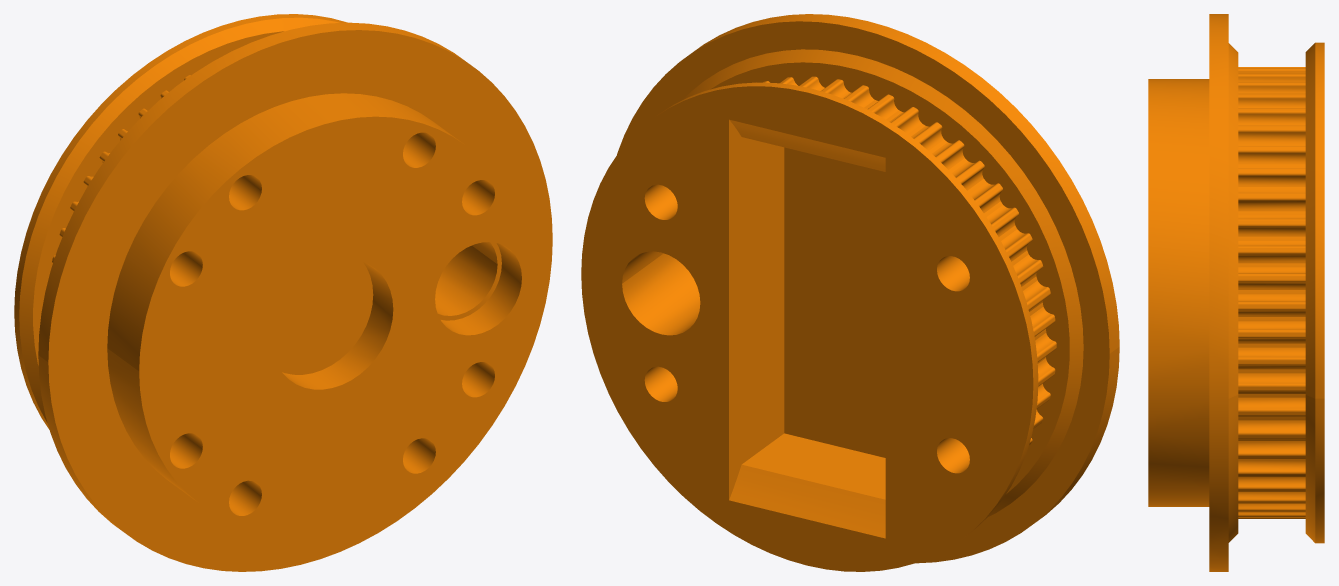
The model's file is MainSwervePulley.gltf.
The picture shows the model from 3 angles, left to right: view 1: azimuth 30°, elevation 25°; view 2: azimuth 150°, elevation 25°; view 3: azimuth 270°, elevation 25°; orthographic projection. The views are drawn at different scales.
Visible parts, largest first — view 1: FusionComponent; view 2: FusionComponent; view 3: FusionComponent.
Boxes of the visible parts, x1,y1,x2,y2 form: FusionComponent: [14, 14, 552, 571]; FusionComponent: [581, 14, 1119, 571]; FusionComponent: [1148, 14, 1324, 571].
Bounding box in the file's own units: 58 × 58 × 18.35.
